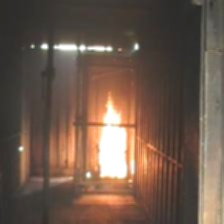fire: (95, 95, 134, 177)
